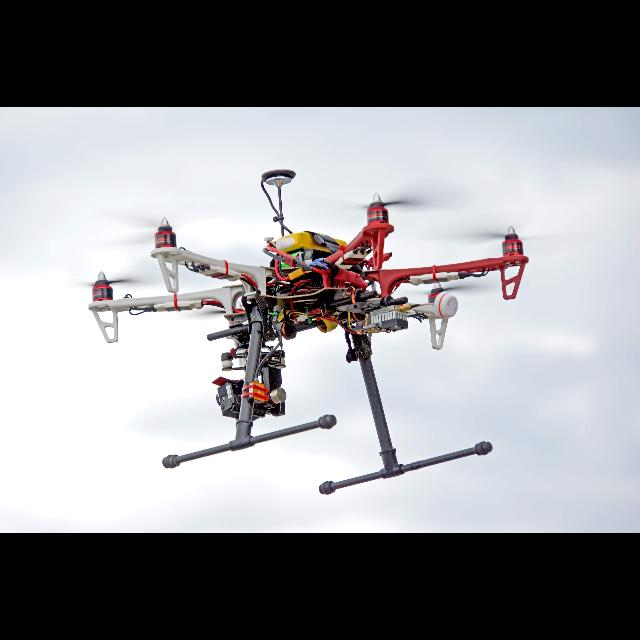Drone: (62, 185, 566, 378)
